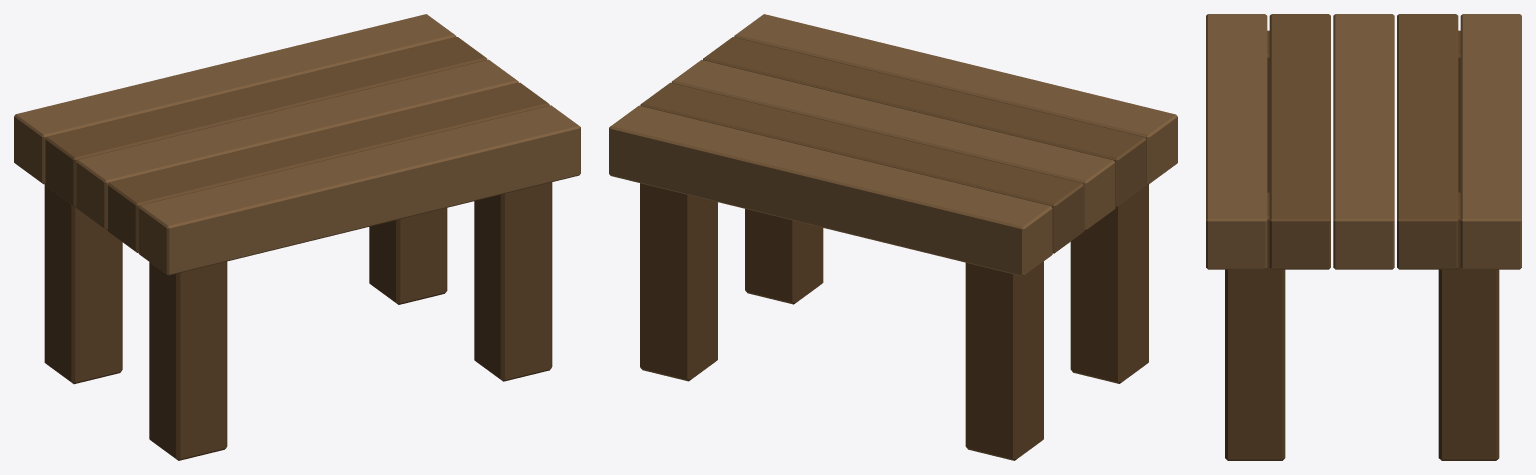
File: Table_01.fbx
3 renders of one model, left to right at view 1: azimuth 30°, elevation 25°; view 2: azimuth 150°, elevation 25°; view 3: azimuth 270°, elevation 25°, orthographic. The views are drawn at different scales.
Visible parts, largest first — view 1: Table_01; view 2: Table_01; view 3: Table_01.
Boxes of the visible parts, box(x1,y1,x2,y2) form: Table_01: box(14, 14, 580, 460); Table_01: box(609, 14, 1177, 460); Table_01: box(1206, 14, 1521, 460).
Size of the model in its own units: 1.57 by 0.8971 by 1.02.
